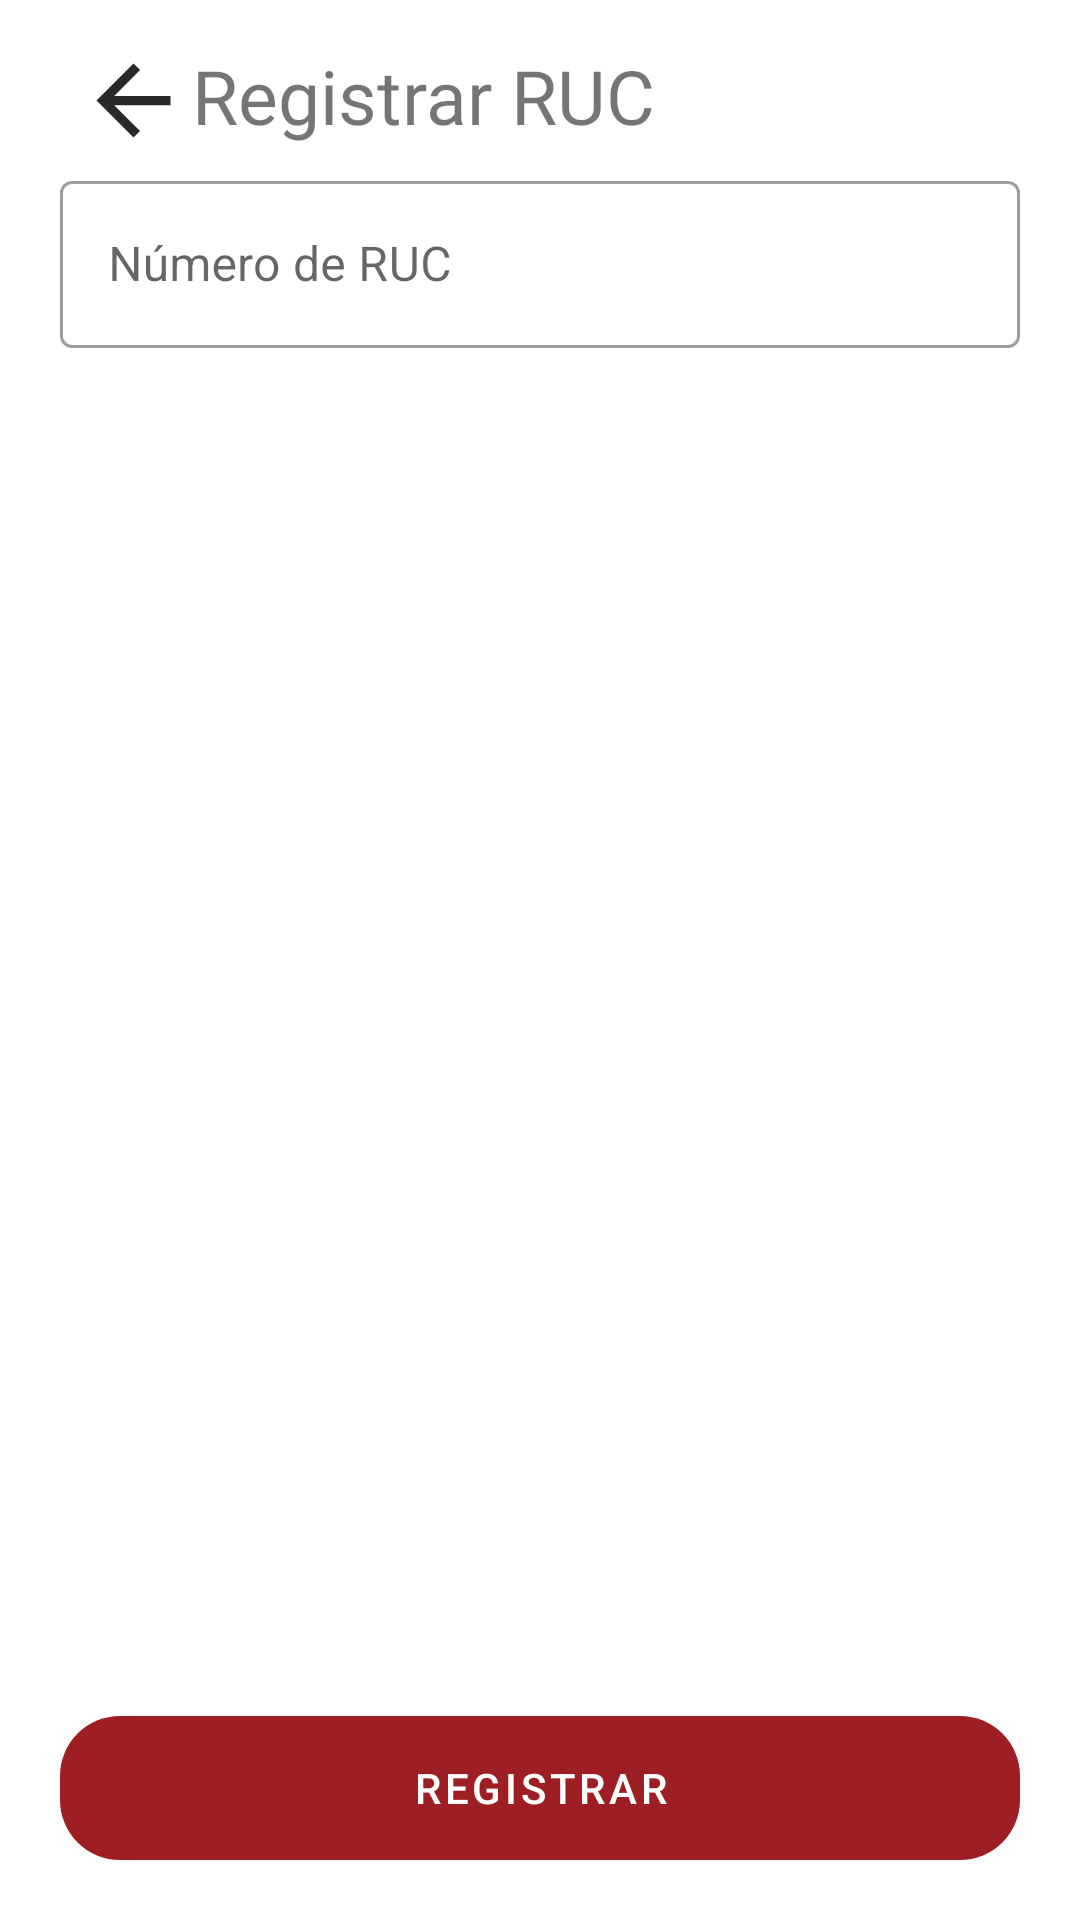

Where to tap for icons on this 1080 × 1920 app screen, as point (x, y):
arrow back: point (133, 100)
